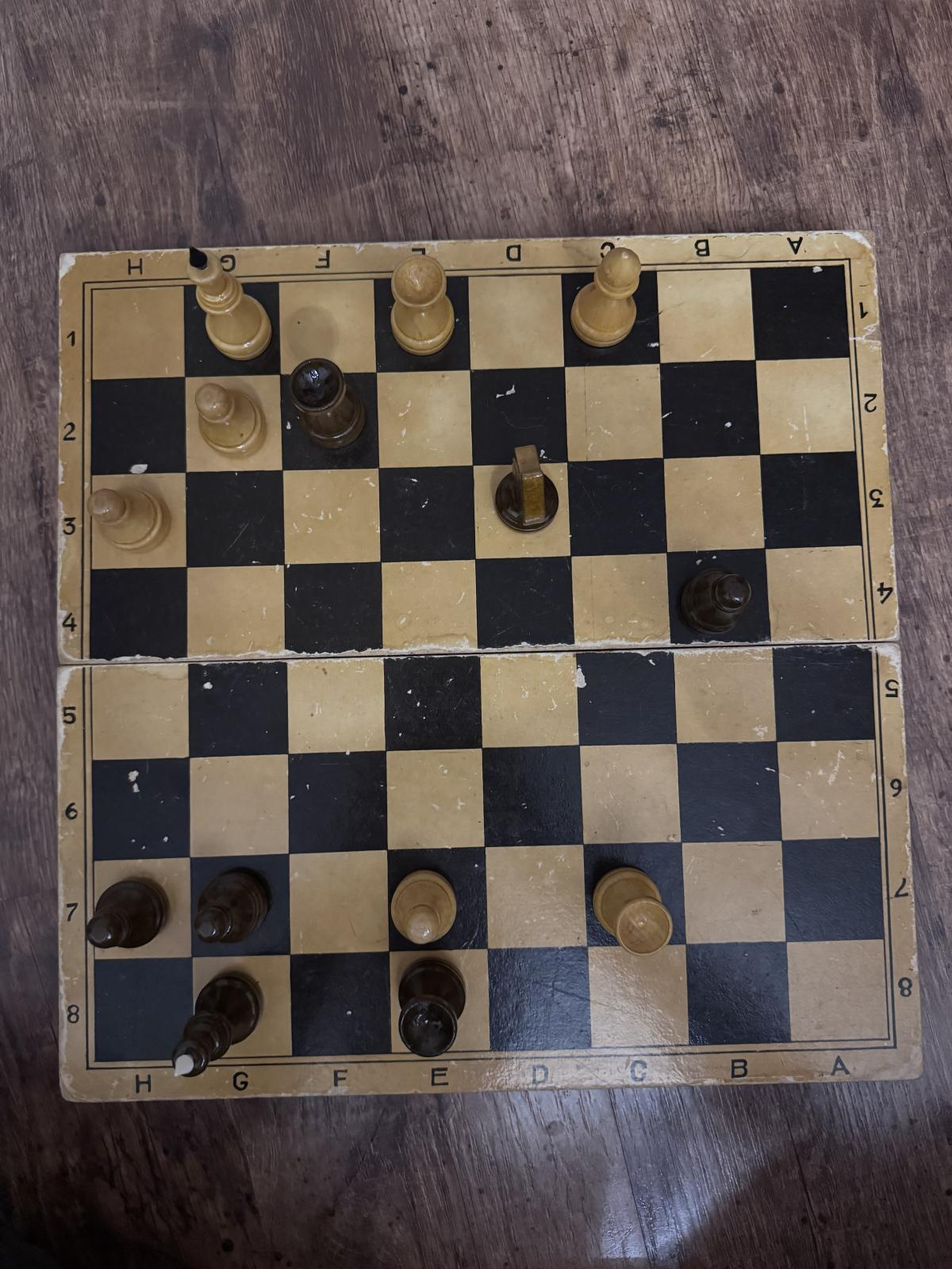Chess-Board: (92, 265, 889, 1061)
